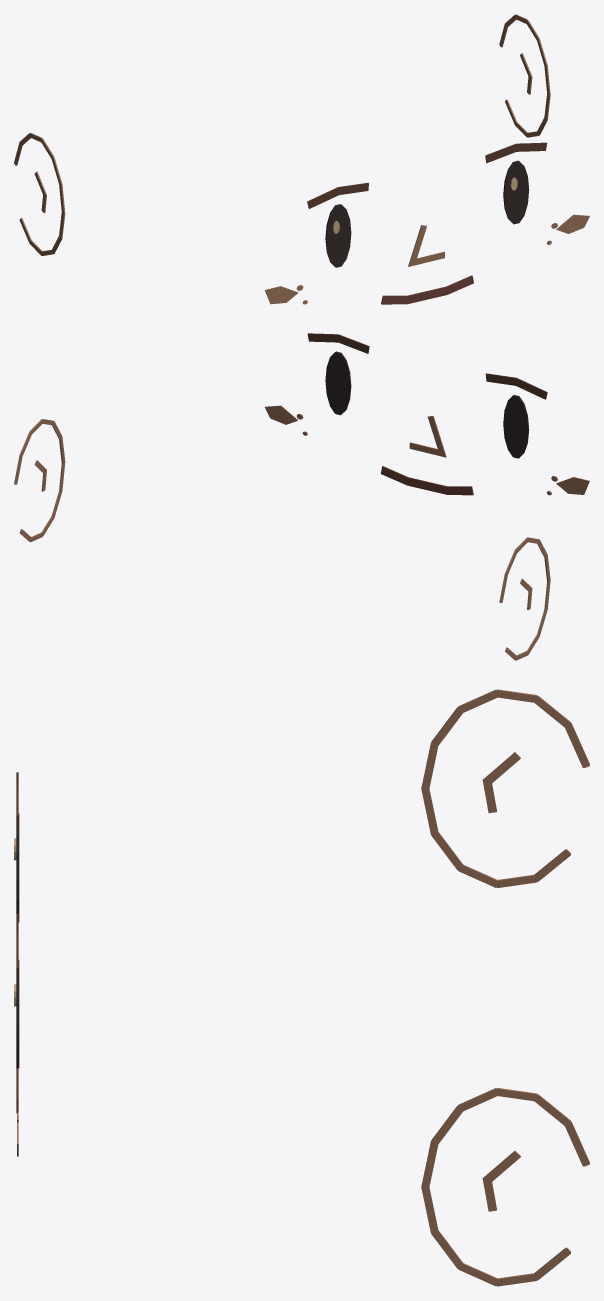
Rendered from 02_Visage.fbx.
3 renders of one model, top to bottom at view 1: azimuth 30°, elevation 25°; view 2: azimuth 150°, elevation 25°; view 3: azimuth 270°, elevation 25°, orthographic. The views are drawn at different scales.
Visible parts, largest first — view 1: 02_Visage; view 2: 02_Visage; view 3: 02_Visage.
Part boxes in pixels (x1,y1,x2,y2): 02_Visage: (14,14,589,304); 02_Visage: (14,333,589,660); 02_Visage: (14,689,589,1286).
Bounding box in the file's own units: 1.2 × 0.3201 × 0.7337.
1 material, 1 textured.
